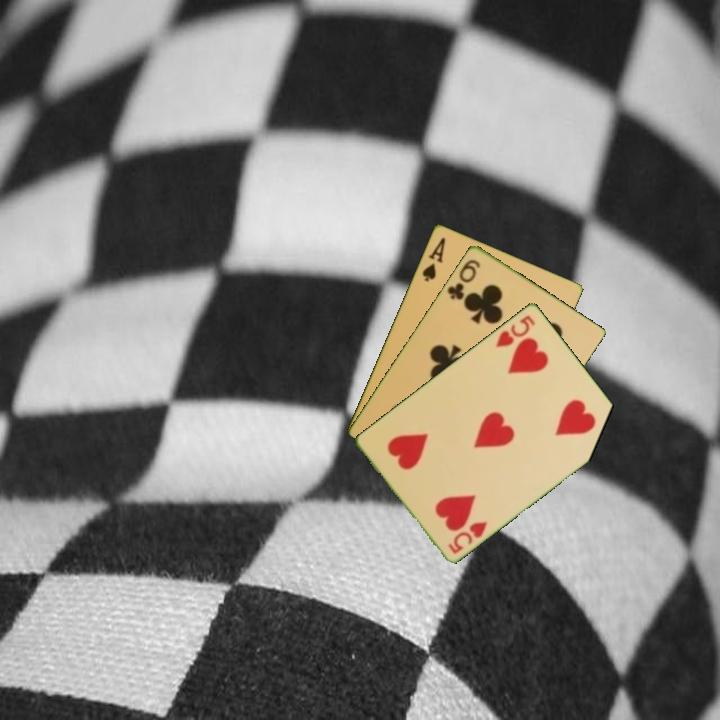5h: (492, 311, 538, 350), (444, 517, 490, 556)
6c: (443, 255, 483, 303)
As: (418, 233, 448, 284)
